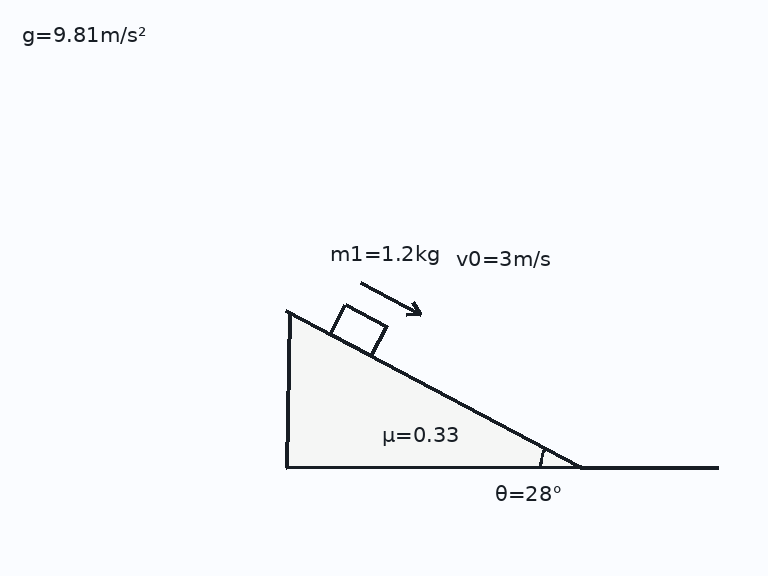block: (327, 301, 388, 357)
ramp: (286, 310, 582, 469)
